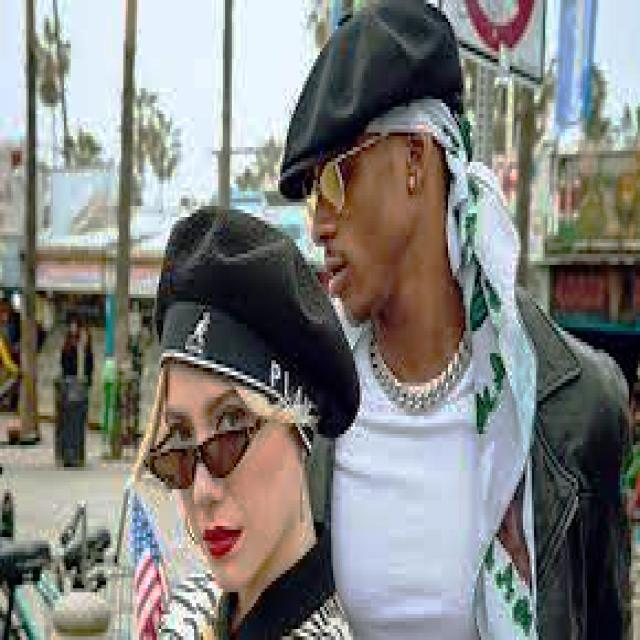TOPI: (150, 198, 364, 452), (271, 0, 474, 202)
